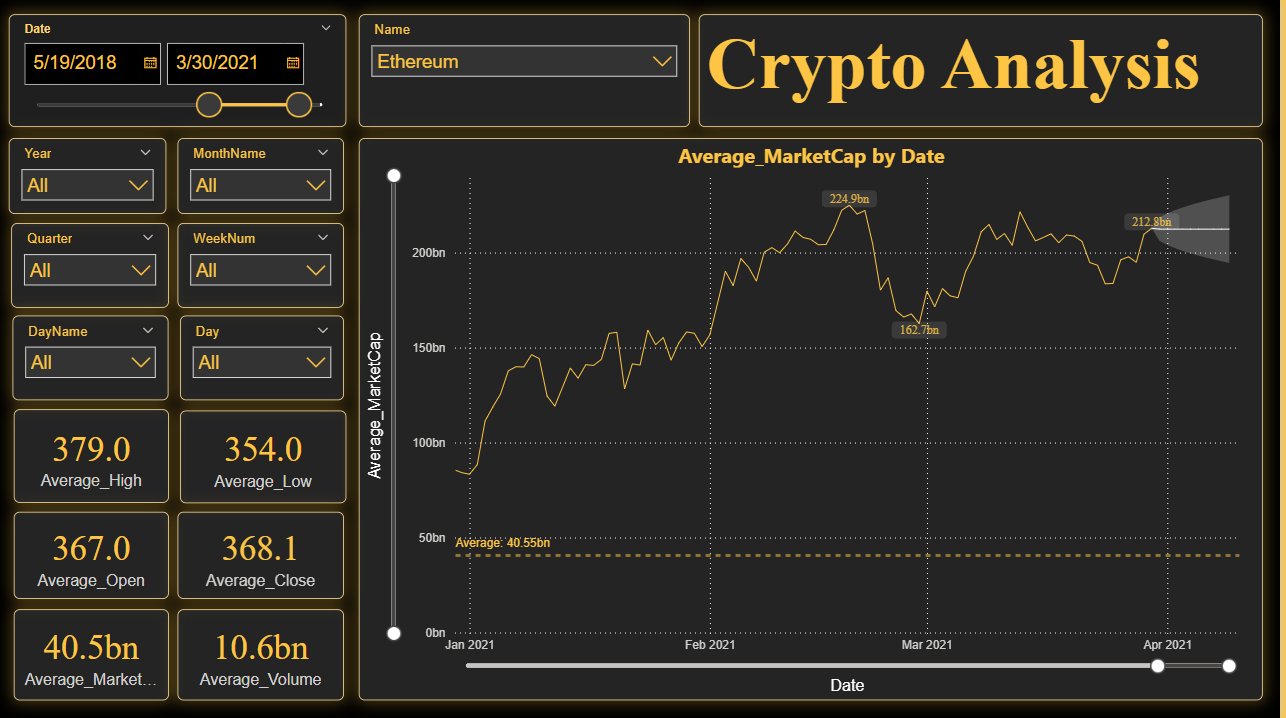

The dashboard page shown, as its layout file describes it:
{"tool":"powerbi","page":{"name":"Page 1","canvas":[1280,720],"ordinal":0},"visuals":[{"type":"slicer","fields":{"Values":["Datetable.Date"]},"box":[8.8,16.2,337.5,112.5],"z":0},{"type":"slicer","fields":{"Values":["coins_table.Name"]},"box":[358.8,16.2,331.2,112.5],"z":1000},{"type":"card","fields":{"Values":["MyCalculation.MarketeCap"]},"box":[13.8,611.2,155,91.2],"z":2000},{"type":"card","fields":{"Values":["MyCalculation.Low"]},"box":[180,412.5,166.2,92.5],"z":3000},{"type":"card","fields":{"Values":["MyCalculation.High"]},"box":[13.8,411.2,155,93.8],"z":4000},{"type":"card","fields":{"Values":["MyCalculation.Volume"]},"box":[177.5,611.2,166.2,91.2],"z":5000},{"type":"textbox","box":[698.8,16.2,563.8,112.5],"z":6000},{"type":"lineChart","fields":{"Category":["Datetable.Date"],"Y":["MyCalculation.Average_MarketCap"]},"box":[358.8,140,903.8,562.5],"z":7000},{"type":"card","fields":{"Values":["MyCalculation.Open"]},"box":[13.8,513.8,155,87.5],"z":8000},{"type":"card","fields":{"Values":["MyCalculation.Close"]},"box":[177.5,513.8,166.2,87.5],"z":9000},{"type":"slicer","fields":{"Values":["Datetable.Quarter"]},"box":[11.2,225,157.5,85],"z":10000},{"type":"slicer","fields":{"Values":["Datetable.Year"]},"box":[8.8,140,157.5,76.2],"z":11000},{"type":"slicer","fields":{"Values":["Datetable.WeekNum"]},"box":[177.5,225,166.2,85],"z":12000},{"type":"slicer","fields":{"Values":["Datetable.Day"]},"box":[180,317.5,163.8,85],"z":13000},{"type":"slicer","fields":{"Values":["Datetable.MonthName"]},"box":[177.5,140,166.2,76.2],"z":14000},{"type":"slicer","fields":{"Values":["Datetable.DayName"]},"box":[12.5,317.5,156.2,85],"z":15000}]}

Visuals, with their boxes in screenshot pixels (x1, y1, x2, y2), scaled from the page's 1280x720 canvas onto the 1286x718 screenshot:
slicer - Datetable.Date: bbox(9, 16, 348, 128)
slicer - coins_table.Name: bbox(360, 16, 693, 128)
card - MyCalculation.MarketeCap: bbox(14, 610, 170, 700)
card - MyCalculation.Low: bbox(181, 411, 348, 504)
card - MyCalculation.High: bbox(14, 410, 170, 504)
card - MyCalculation.Volume: bbox(178, 610, 345, 700)
textbox: bbox(702, 16, 1269, 128)
lineChart - Datetable.Date x MyCalculation.Average_MarketCap: bbox(360, 140, 1269, 701)
card - MyCalculation.Open: bbox(14, 512, 170, 600)
card - MyCalculation.Close: bbox(178, 512, 345, 600)
slicer - Datetable.Quarter: bbox(11, 224, 169, 309)
slicer - Datetable.Year: bbox(9, 140, 167, 216)
slicer - Datetable.WeekNum: bbox(178, 224, 345, 309)
slicer - Datetable.Day: bbox(181, 317, 345, 401)
slicer - Datetable.MonthName: bbox(178, 140, 345, 216)
slicer - Datetable.DayName: bbox(13, 317, 169, 401)
